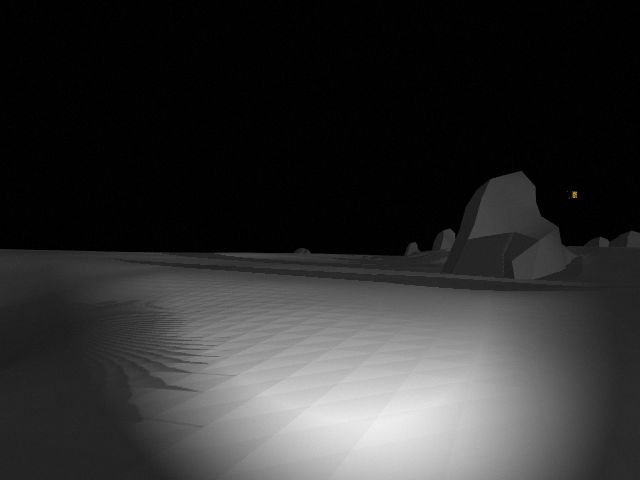cubesat: (567, 190, 580, 202)
